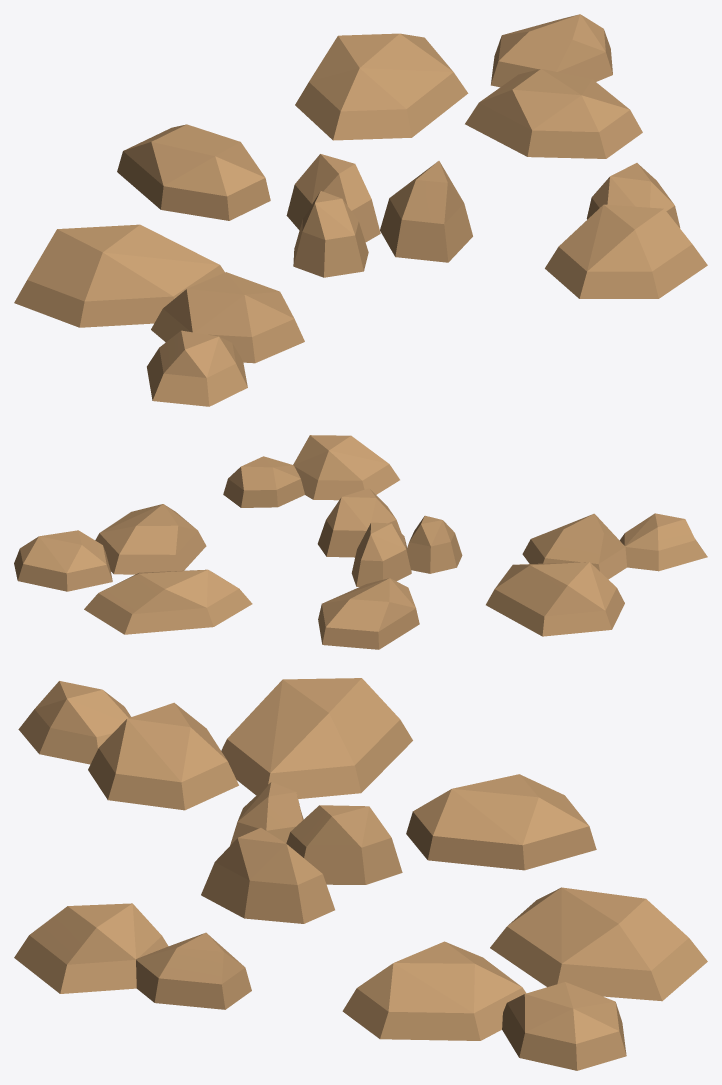
File: rock__pebbles2_dirt_light.glb
The picture shows the model from 3 angles, top to bottom: view 1: azimuth 30°, elevation 25°; view 2: azimuth 150°, elevation 25°; view 3: azimuth 270°, elevation 25°; orthographic projection. The views are drawn at different scales.
Visible parts, largest first — view 1: pebbles2.dirt.light; view 2: pebbles2.dirt.light; view 3: pebbles2.dirt.light.
Boxes of the visible parts, x1,y1,x2,y2 form: pebbles2.dirt.light: [14, 14, 707, 406]; pebbles2.dirt.light: [14, 435, 707, 649]; pebbles2.dirt.light: [14, 678, 707, 1070].
Size of the model in its own units: 2.23 by 0.1965 by 1.81.
Materials: 1 (1 with a texture image).
